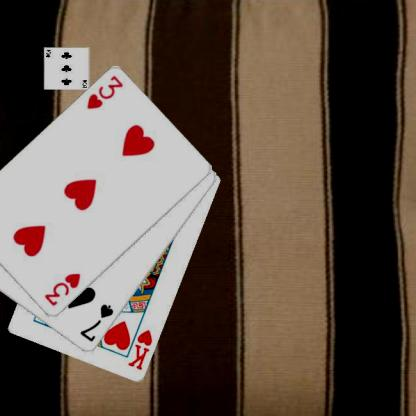3H: (41, 270, 82, 308), (84, 73, 125, 111)
7S: (78, 301, 116, 344)
KH: (126, 327, 154, 372)
